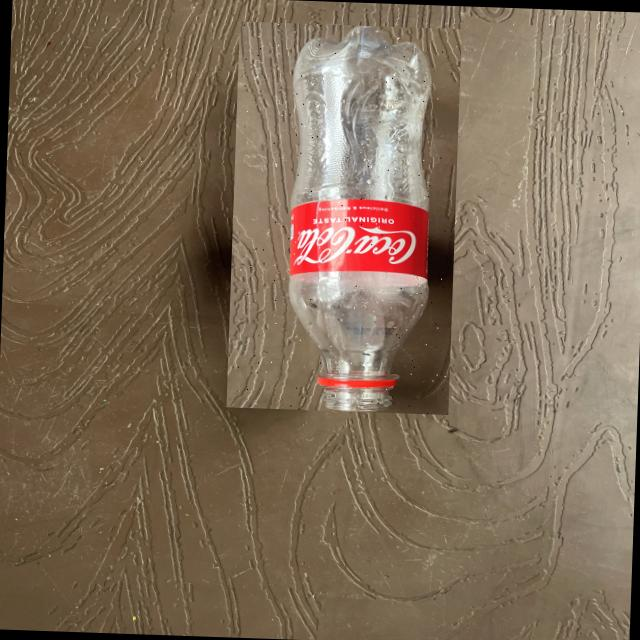REJECT: (225, 19, 460, 413)
